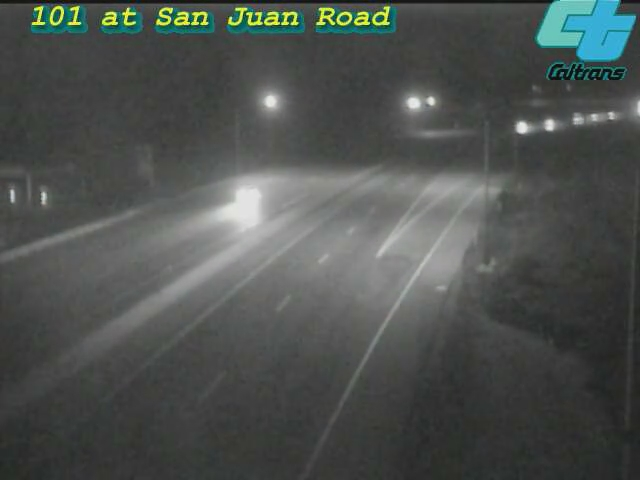vehicle: (210, 156, 290, 236), (586, 91, 636, 141), (569, 92, 619, 142), (552, 94, 602, 144), (526, 99, 576, 149), (500, 101, 550, 151)
